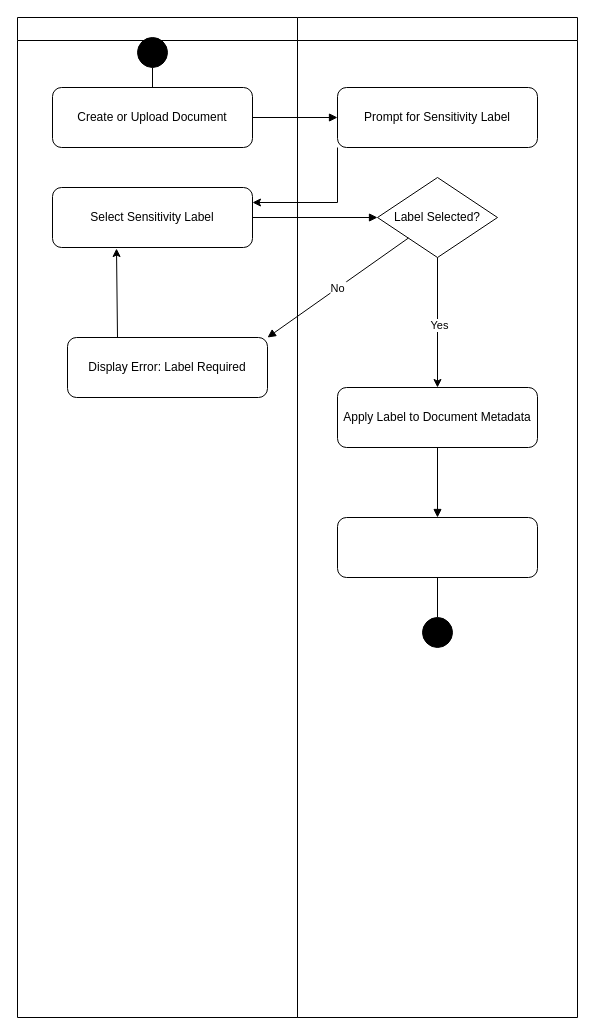
Some shapes in this 595 by 1035 pixel diagram are drawn without their labels. Each missing label, with the box of its shape:
Document System: (296, 16, 578, 1018)
Save or Upload Document: (336, 516, 538, 578)
User: (16, 16, 298, 1018)
